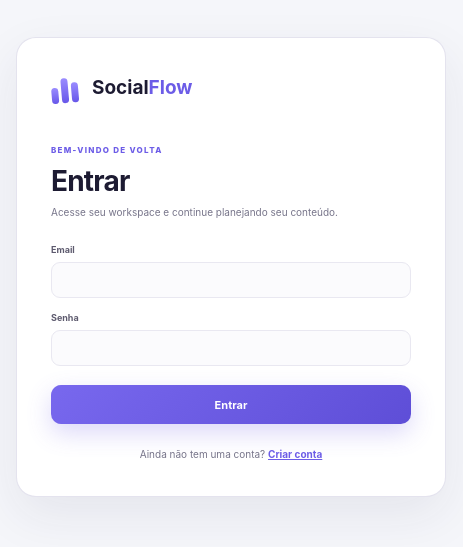
Scenario: autenticação no frontend › valida o formulário antes de tentar login
Step 1. Click the button "Entrar" → click(231, 404), box [51, 385, 411, 424]
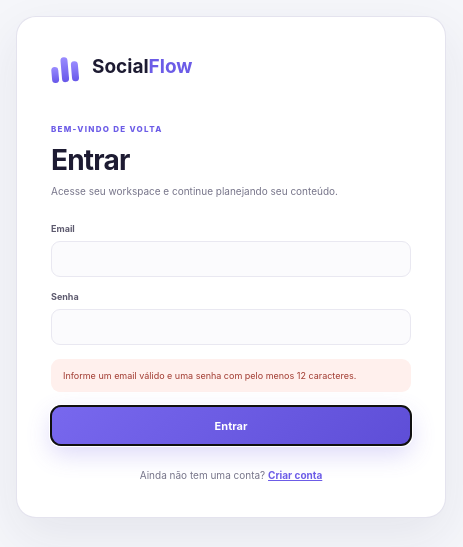
Now the message shows "email válido e uma senha com pelo menos 12 caracteres", box [63, 370, 356, 381]
